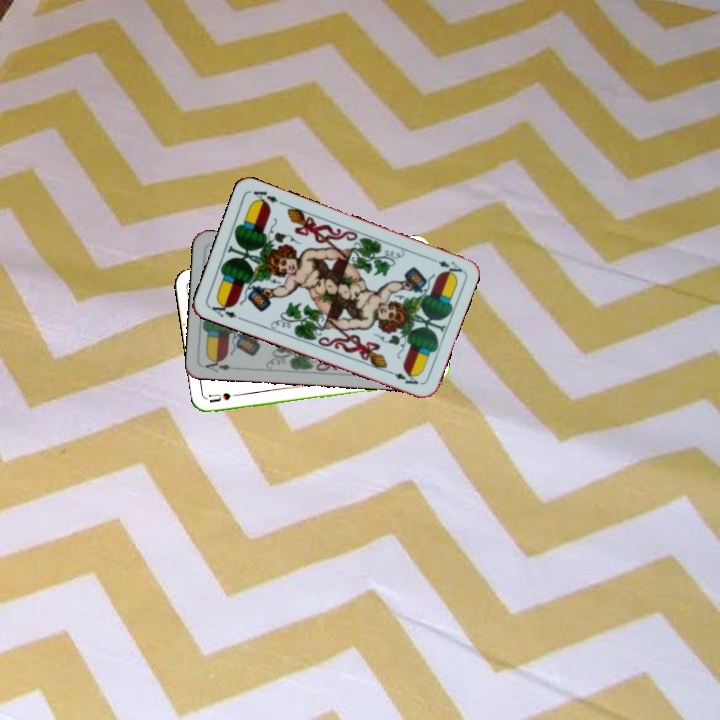EA: (425, 253, 464, 277), (201, 354, 241, 375), (206, 297, 239, 321)
SU: (206, 389, 247, 405)
